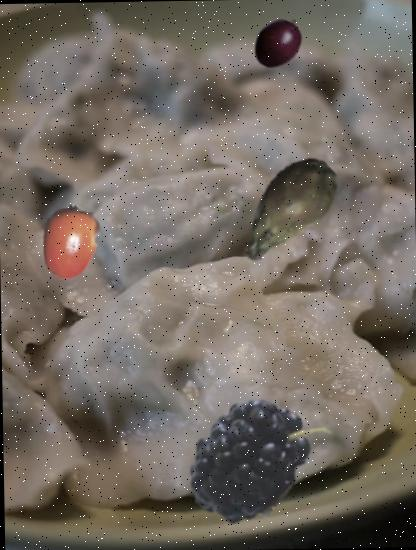Cactus: (222, 146, 347, 272)
Kaki: (32, 204, 109, 281)
Mulberry: (160, 371, 312, 523)
Tamarillo: (250, 13, 308, 71)
